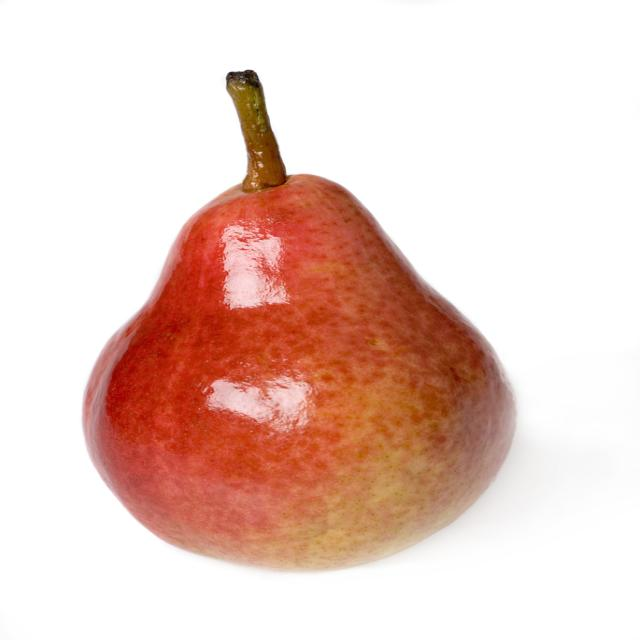pear: (82, 172, 517, 572)
